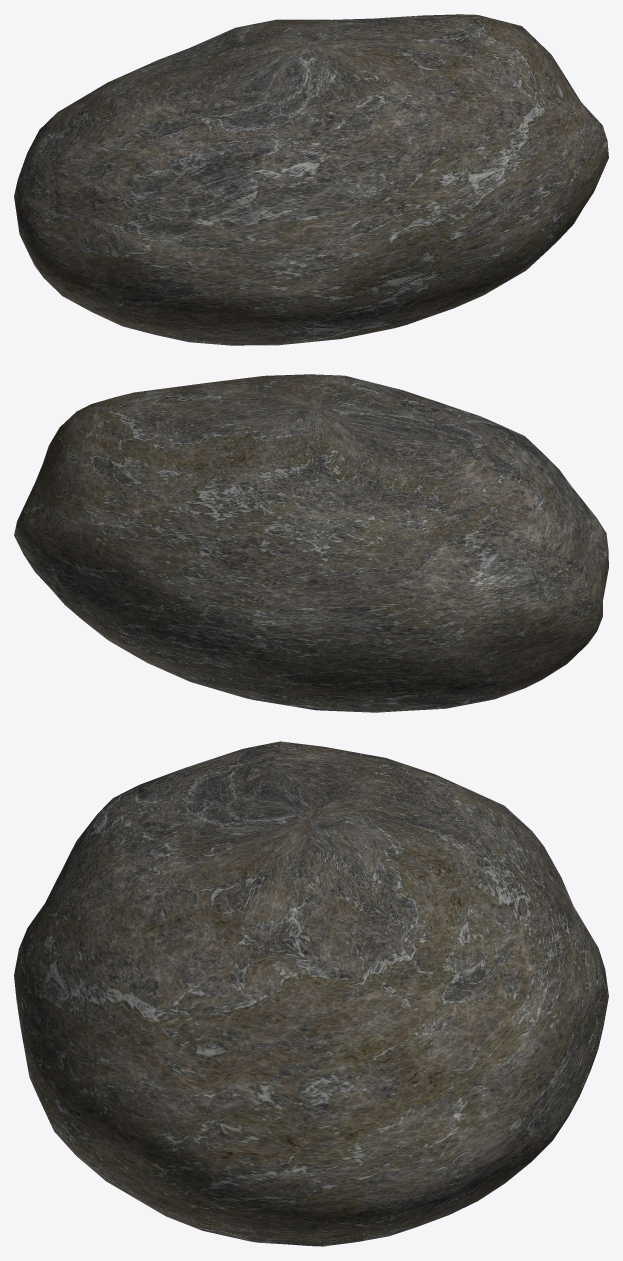
Rendered from river_stone_LOD1.fbx.
The picture shows the model from 3 angles, top to bottom: view 1: azimuth 30°, elevation 25°; view 2: azimuth 150°, elevation 25°; view 3: azimuth 270°, elevation 25°; orthographic projection. The views are drawn at different scales.
Parts seen in each view (by area): view 1: river_stone_LOD1; view 2: river_stone_LOD1; view 3: river_stone_LOD1.
Part boxes in pixels (x1,y1,x2,y2): river_stone_LOD1: (14, 14, 608, 345); river_stone_LOD1: (14, 374, 608, 712); river_stone_LOD1: (14, 741, 608, 1246).
Size of the model in its own units: 270 by 115 by 190.
